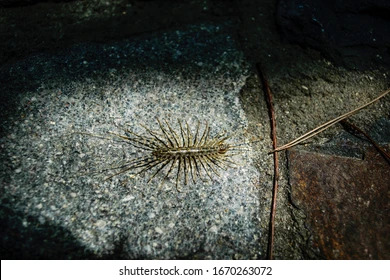centipede: (91, 110, 286, 191)
